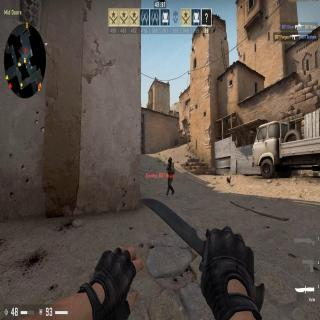CT-Body: (166, 156, 174, 196), (168, 156, 172, 164)
